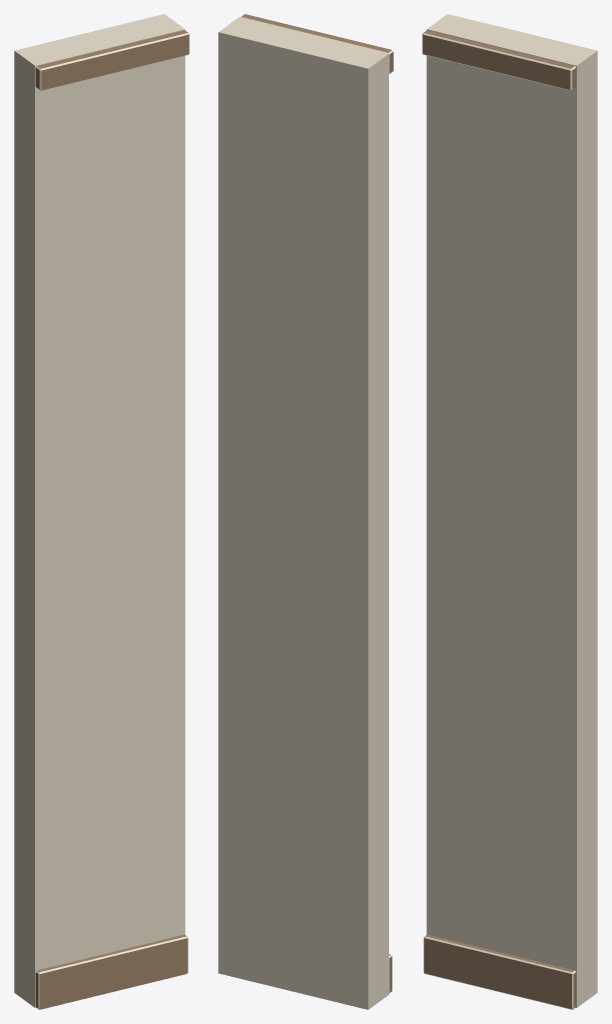
The model's file is muro_medio_300.glb.
3 renders of one model, left to right at view 1: azimuth 30°, elevation 25°; view 2: azimuth 150°, elevation 25°; view 3: azimuth 330°, elevation 25°, orthographic.
Visible parts, largest first — view 1: muro_medio_300; view 2: muro_medio_300; view 3: muro_medio_300.
Boxes of the visible parts, x1,y1,x2,y2 form: muro_medio_300: (14,14,189,1009); muro_medio_300: (218,14,393,1009); muro_medio_300: (422,14,597,1009).
Bounding box in the file's own units: 0.5 × 3 × 0.15.
